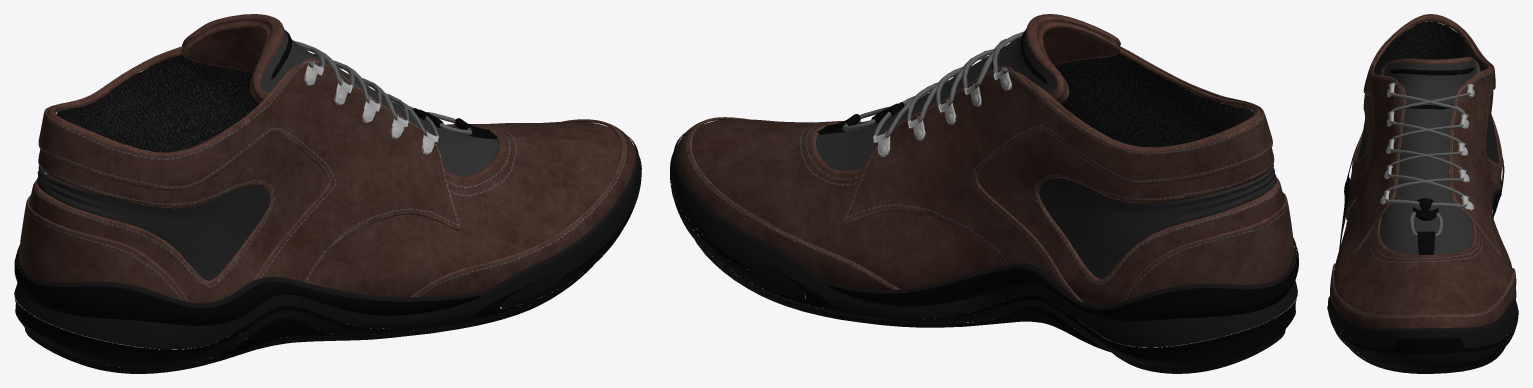
The model's file is Sneaker-test-texturing.gltf.
The picture shows the model from 3 angles, left to right: view 1: azimuth 30°, elevation 25°; view 2: azimuth 150°, elevation 25°; view 3: azimuth 270°, elevation 25°; orthographic projection. The views are drawn at different scales.
Visible parts, largest first — view 1: Upper, Sole, Inner; view 2: Upper, Sole, Inner; view 3: Upper, Inner, Sole.
Boxes of the visible parts, <box> form: Upper: <box>19,14,635,325</box>; Sole: <box>14,135,641,373</box>; Inner: <box>47,29,498,270</box>; Upper: <box>676,14,1294,321</box>; Sole: <box>670,133,1298,373</box>; Inner: <box>816,28,1266,279</box>; Upper: <box>1330,14,1516,348</box>; Inner: <box>1374,21,1494,254</box>; Sole: <box>1327,141,1518,373</box>.
Bounding box in the file's own units: 0.3065 × 0.1468 × 0.1165.
Materials: 3 (3 with a texture image).
